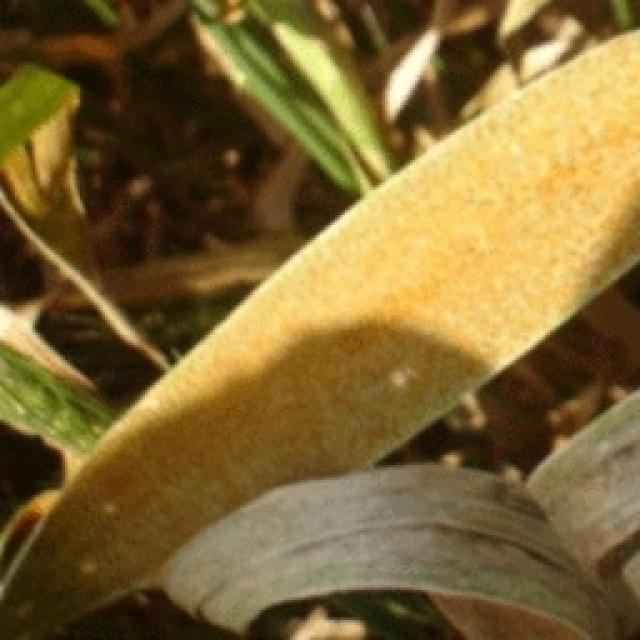Yellow Rust: (0, 5, 638, 637)
